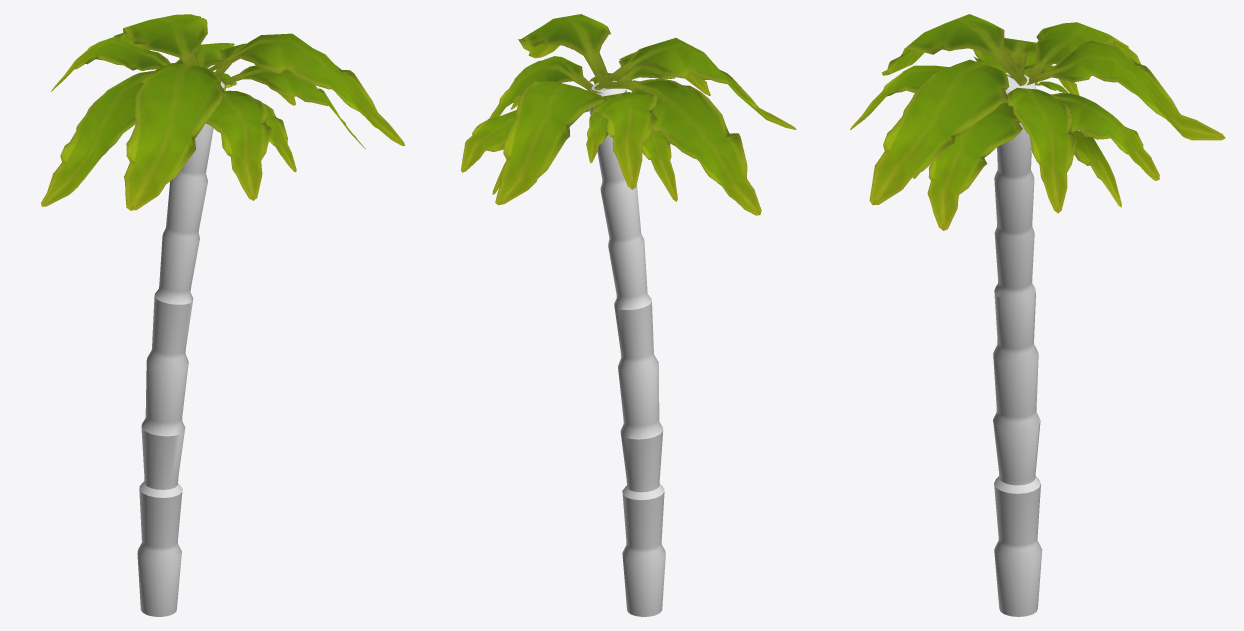
File: Palm1.fbx
3 views of the same model, side by side, from view 1: azimuth 30°, elevation 25°; view 2: azimuth 150°, elevation 25°; view 3: azimuth 270°, elevation 25° (orthographic). The views are drawn at different scales.
Parts seen in each view (by area): view 1: Palm1_LOD0; view 2: Palm1_LOD0; view 3: Palm1_LOD0.
Boxes of the visible parts, x1,y1,x2,y2 form: Palm1_LOD0: [41, 14, 404, 616]; Palm1_LOD0: [461, 14, 796, 616]; Palm1_LOD0: [850, 14, 1225, 616].
Size of what is drawn, in the model's own units: 371 by 600 by 361.
